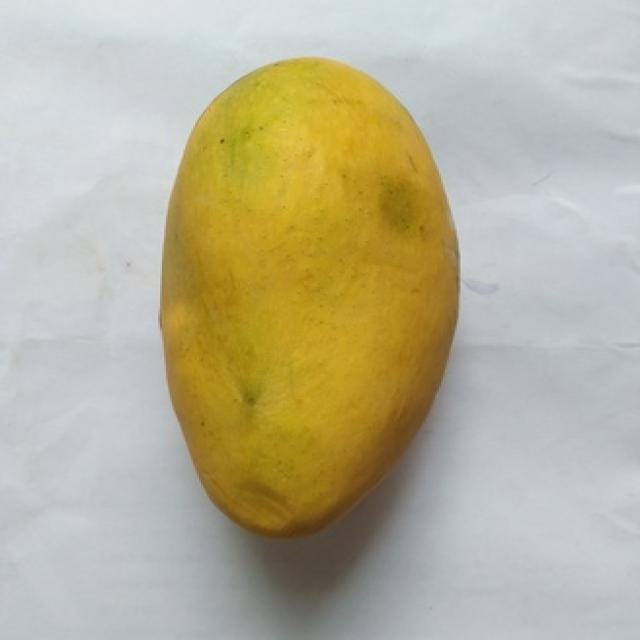Mango: (160, 57, 457, 535)
